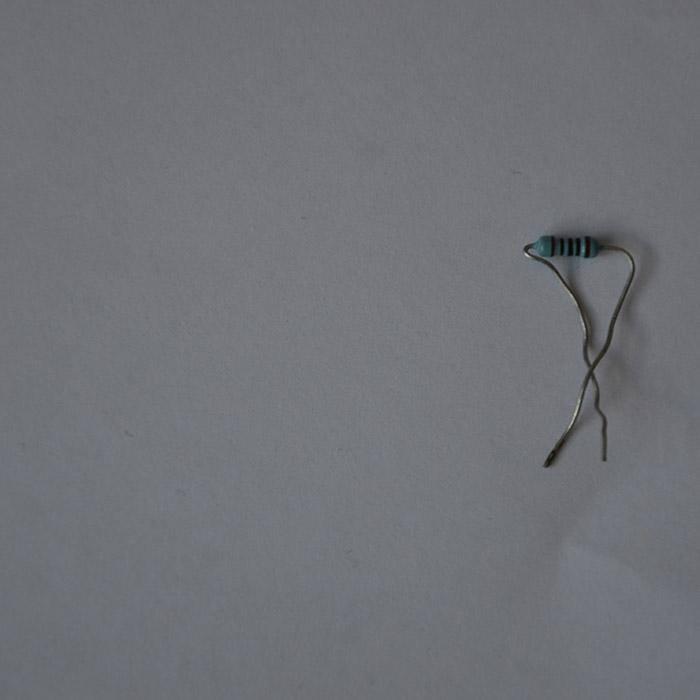resistor: (530, 234, 602, 258)
